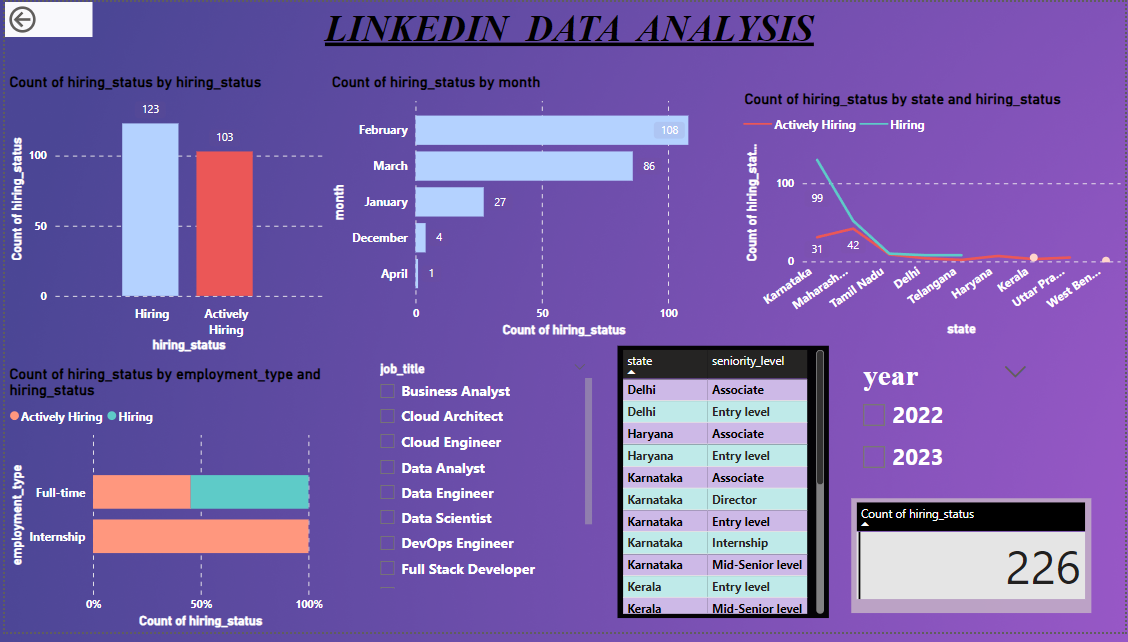

What the dashboard file says about the page in this screenshot:
{"tool":"powerbi","page":{"name":"Page 1","canvas":[1280,720],"ordinal":0},"visuals":[{"type":"textbox","box":[10,0,1270.1,92.1],"z":0},{"type":"slicer","fields":{"Values":["LinkedIn dataset.job_title"]},"box":[415,405,260,270],"z":1000},{"type":"columnChart","fields":{"Category":["LinkedIn dataset.hiring_status"],"Y":["CountNonNull(LinkedIn dataset.hiring_status)"]},"box":[0,80.9,368.2,323.4],"z":2000},{"type":"clusteredBarChart","fields":{"Category":["LinkedIn dataset.month"],"Y":["CountNonNull(LinkedIn dataset.hiring_status)"]},"box":[368.2,80.9,456.5,306],"z":3000},{"type":"actionButton","box":[0,0,100,40],"z":4000},{"type":"stackedAreaChart","fields":{"Category":["LinkedIn dataset.state"],"Series":["LinkedIn dataset.hiring_status"],"Y":["CountNonNull(LinkedIn dataset.hiring_status)"]},"box":[840,100,440,286.2],"z":5000},{"type":"hundredPercentStackedBarChart","fields":{"Category":["LinkedIn dataset.employment_type"],"Series":["LinkedIn dataset.hiring_status"],"Y":["CountNonNull(LinkedIn dataset.hiring_status)"]},"box":[0,414,368,306],"z":6000},{"type":"tableEx","fields":{"Values":["LinkedIn dataset.state","LinkedIn dataset.seniority_level"]},"box":[700,392.5,241.2,311.2],"z":7000},{"type":"slicer","fields":{"Values":["LinkedIn dataset.year"]},"box":[952.9,392.9,234.3,174.3],"z":8000},{"type":"tableEx","fields":{"Values":["LinkedIn dataset.hiring_status"]},"box":[967.1,567.1,274.3,131.4],"z":8001}]}

Visuals, with their boxes in screenshot pixels (x1, y1, x2, y2), scaled from the page's 1280x720 canvas onto the 1128x642 screenshot:
textbox: select_region(9, 0, 1127, 82)
slicer - LinkedIn dataset.job_title: select_region(366, 361, 595, 602)
columnChart - LinkedIn dataset.hiring_status x CountNonNull(LinkedIn dataset.hiring_status): select_region(0, 72, 324, 361)
clusteredBarChart - LinkedIn dataset.month x CountNonNull(LinkedIn dataset.hiring_status): select_region(324, 72, 727, 345)
actionButton: select_region(0, 0, 88, 36)
stackedAreaChart - LinkedIn dataset.state x LinkedIn dataset.hiring_status: select_region(740, 89, 1127, 344)
hundredPercentStackedBarChart - LinkedIn dataset.employment_type x LinkedIn dataset.hiring_status: select_region(0, 369, 324, 641)
tableEx - LinkedIn dataset.state x LinkedIn dataset.seniority_level: select_region(617, 350, 829, 627)
slicer - LinkedIn dataset.year: select_region(840, 350, 1046, 506)
tableEx - LinkedIn dataset.hiring_status: select_region(852, 506, 1094, 623)
